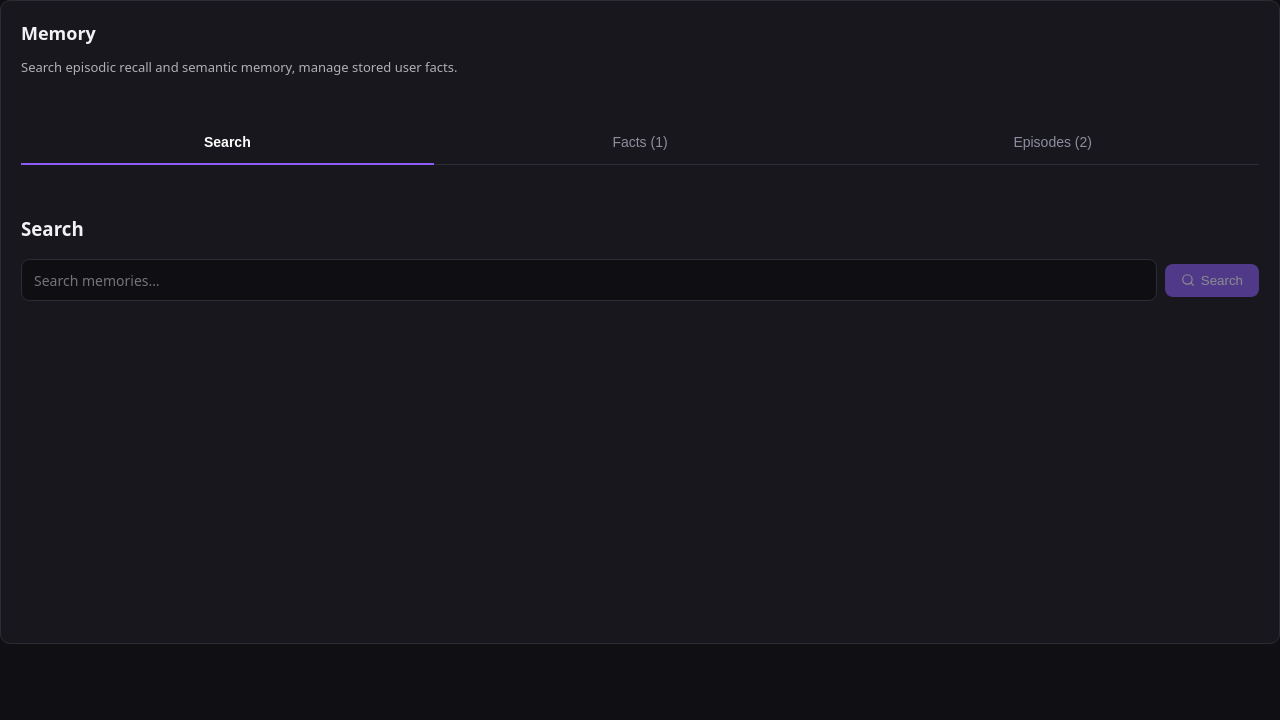
Test: MemoryBrowser › searches memories, shows timing, and keeps facts untouched
Expected: the tab "Facts (1)" is shown, [434,121,846,165]
Step 1. Type "dog" into the field named "Memory search" → (589, 280), box [21,259,1157,301]
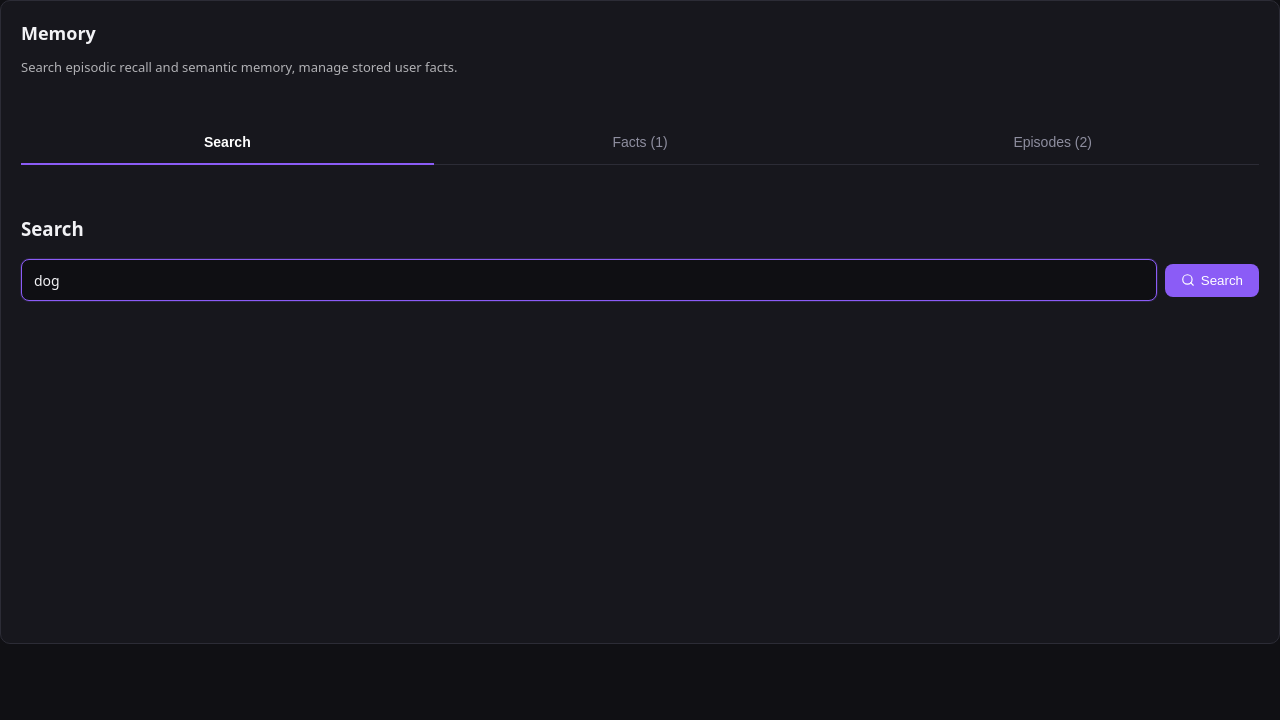
Step 2. Click the button "Search" → (1212, 280), box [1165,264,1259,297]
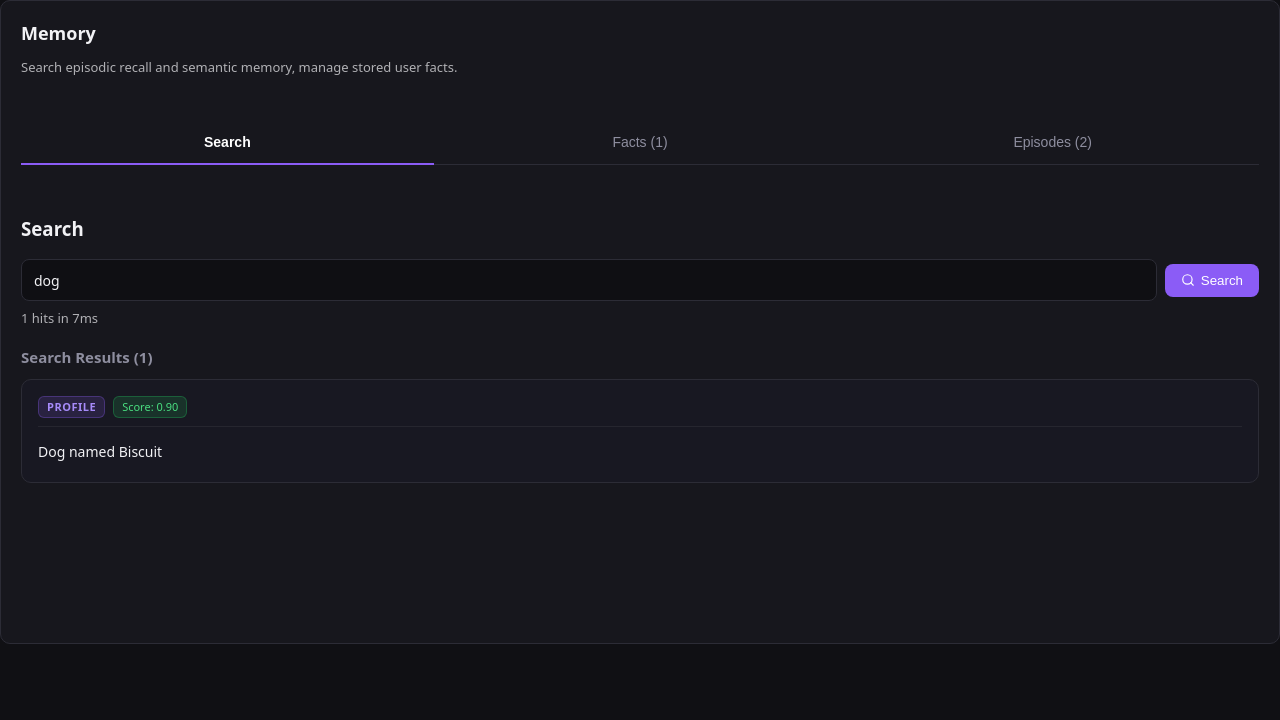
Expected: the text "1 hits in 7ms" is shown, [21,309,98,327]
Expected: the text "Dog named Biscuit" is shown, [38,442,162,461]
